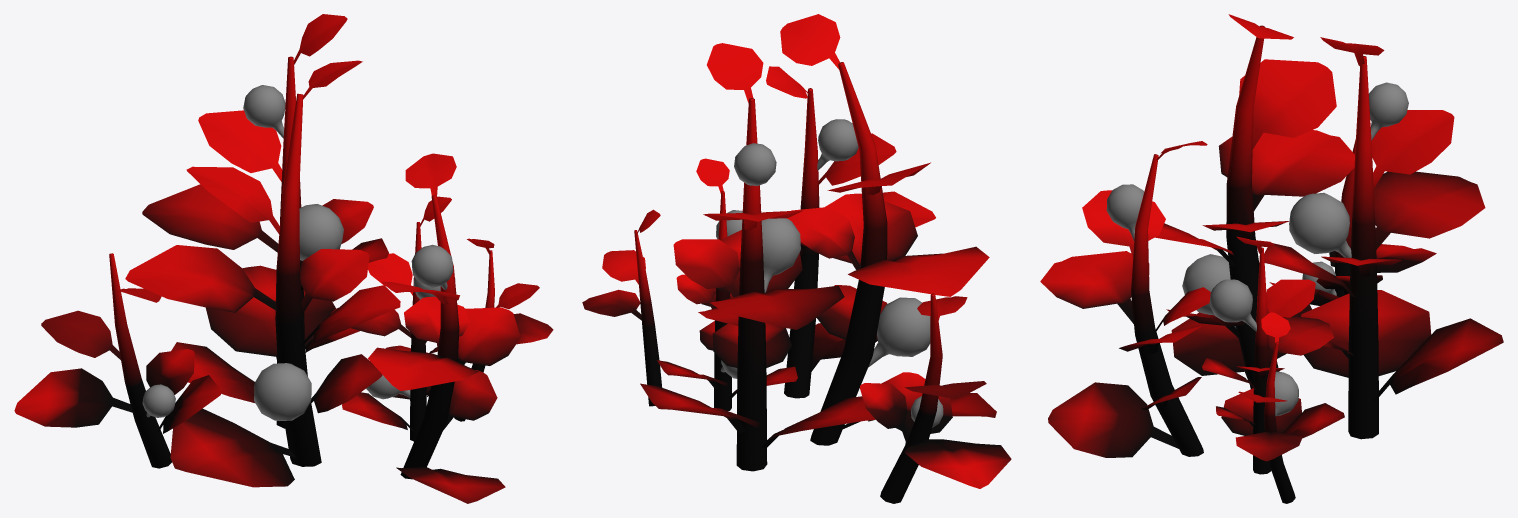
File: SM_BerryShrub_01_LOD0.fbx
3 views of the same model, side by side, from view 1: azimuth 30°, elevation 25°; view 2: azimuth 150°, elevation 25°; view 3: azimuth 270°, elevation 25° (orthographic). The views are drawn at different scales.
Visible parts, largest first — view 1: Shrub_01_LOD0, Berry_01_LOD0; view 2: Shrub_01_LOD0, Berry_01_LOD0; view 3: Shrub_01_LOD0, Berry_01_LOD0.
Part boxes in pixels (left/top/right/bottom): Shrub_01_LOD0: left=14, top=14, right=553, bottom=503; Berry_01_LOD0: left=142, top=85, right=455, bottom=420; Shrub_01_LOD0: left=582, top=14, right=1011, bottom=503; Berry_01_LOD0: left=716, top=119, right=943, bottom=427; Shrub_01_LOD0: left=1040, top=14, right=1503, bottom=503; Berry_01_LOD0: left=1106, top=82, right=1408, bottom=416.
Bounding box in the file's own units: 178 × 148 × 148.
